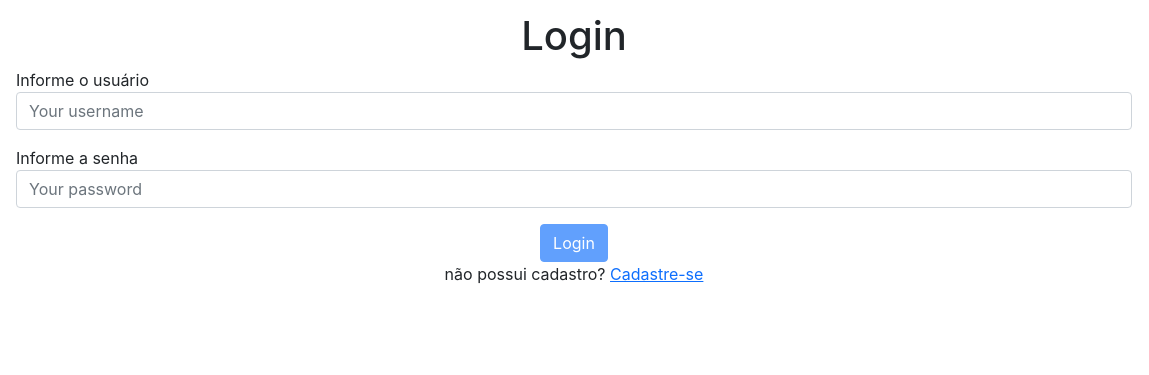
LoginPage › Interactions › clears alert when user changes password
The image size is (1149, 375).
Type "my-user-name" into the field with placeholder "Your username" at (574, 111), box [16, 92, 1132, 130]
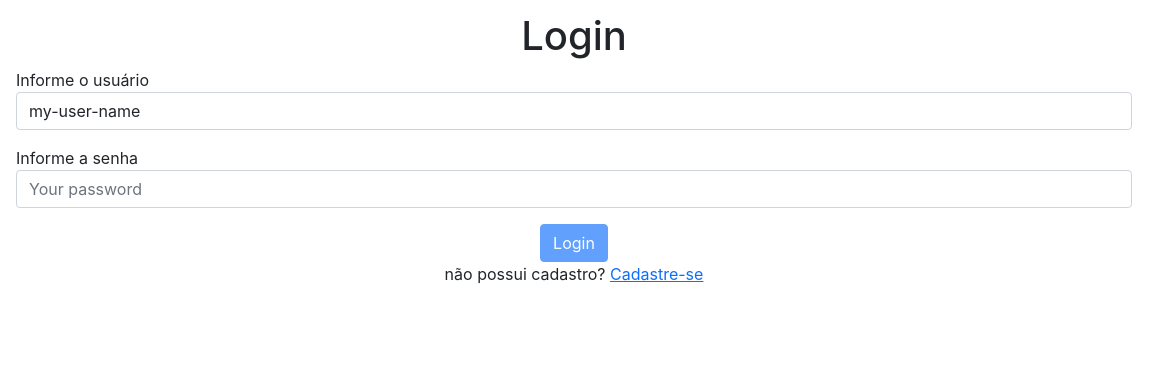
Type "P4ssword" into the password field with placeholder "Your password" at (574, 189), box [16, 170, 1132, 208]
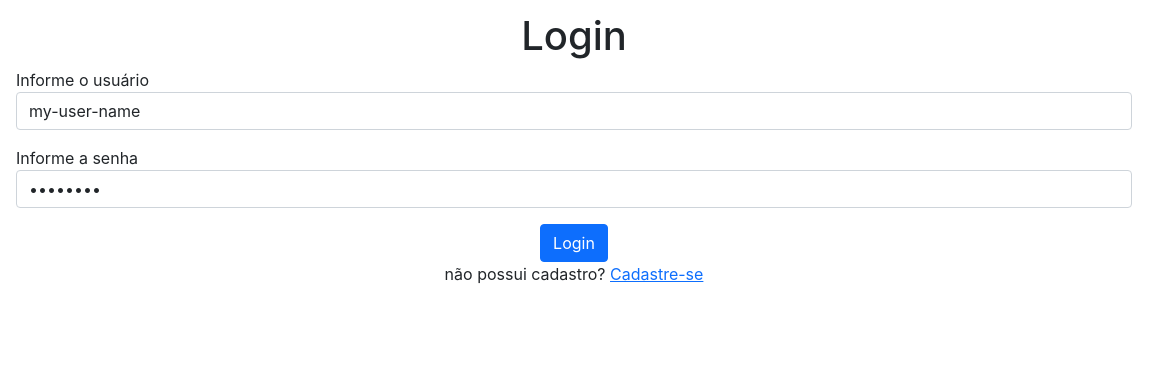
Click the button "Login" at (574, 243), box [540, 224, 608, 262]
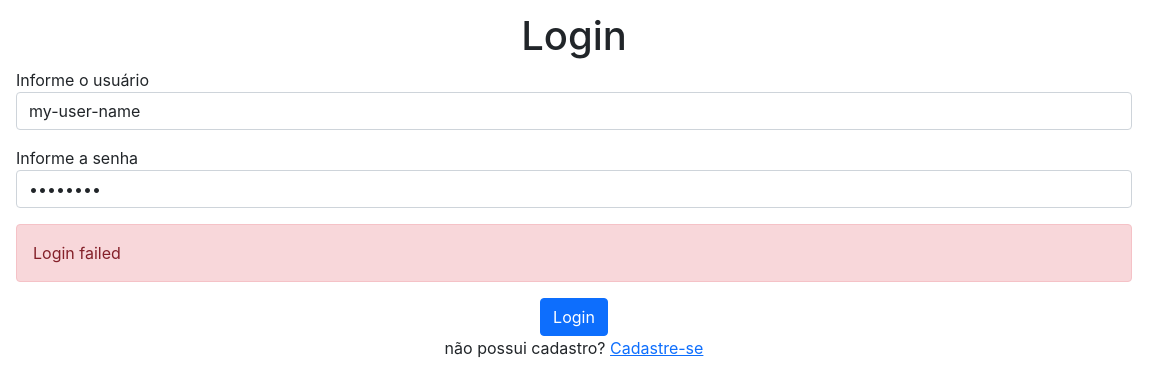
Type "updated-P4ssword" into the password field with placeholder "Your password" at (574, 189), box [16, 170, 1132, 208]
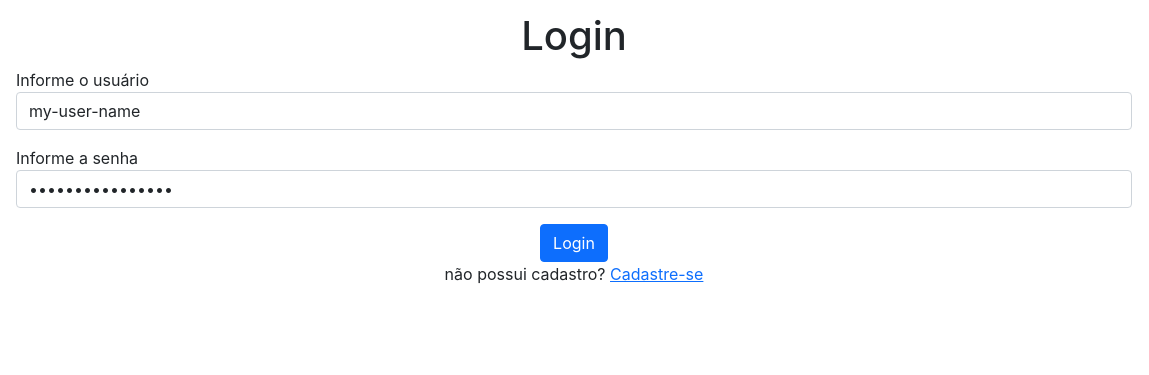
Expected: the text "Login failed" is gone
